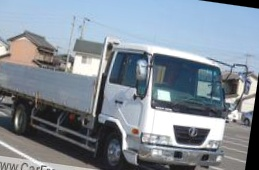truck: (0, 18, 237, 170)
